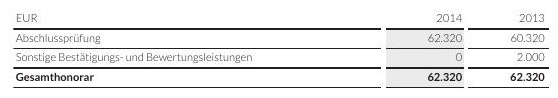table: (0, 0, 558, 98)
